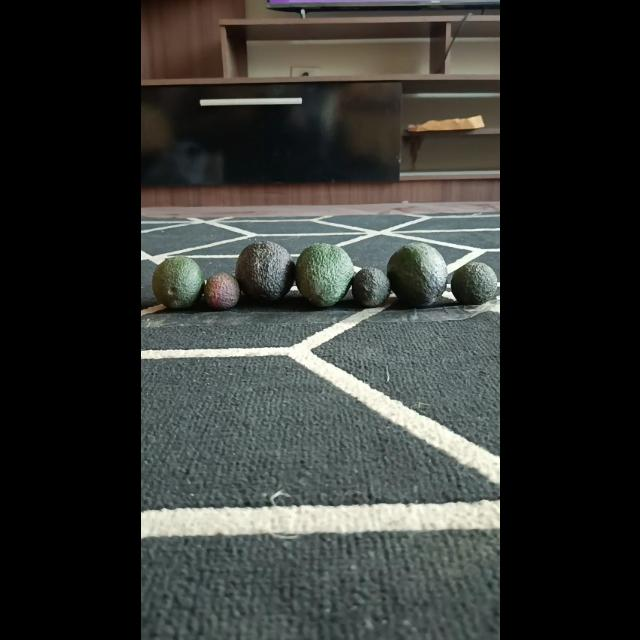Primera: (386, 242, 448, 306), (293, 243, 353, 307), (234, 240, 294, 302)
Segunda: (152, 256, 204, 310)
Tercera: (448, 260, 496, 306), (350, 266, 390, 308), (202, 272, 240, 310)
